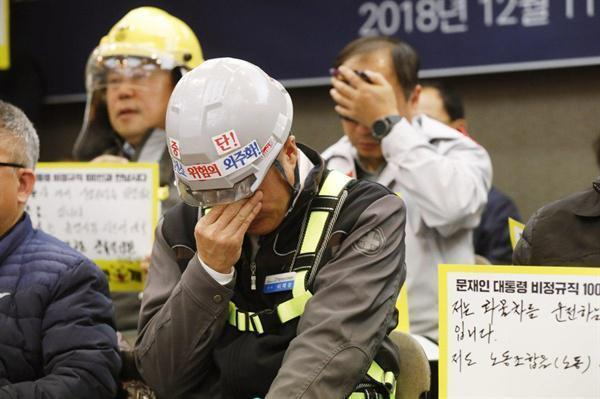helmet: (165, 58, 294, 193), (97, 6, 204, 71)
